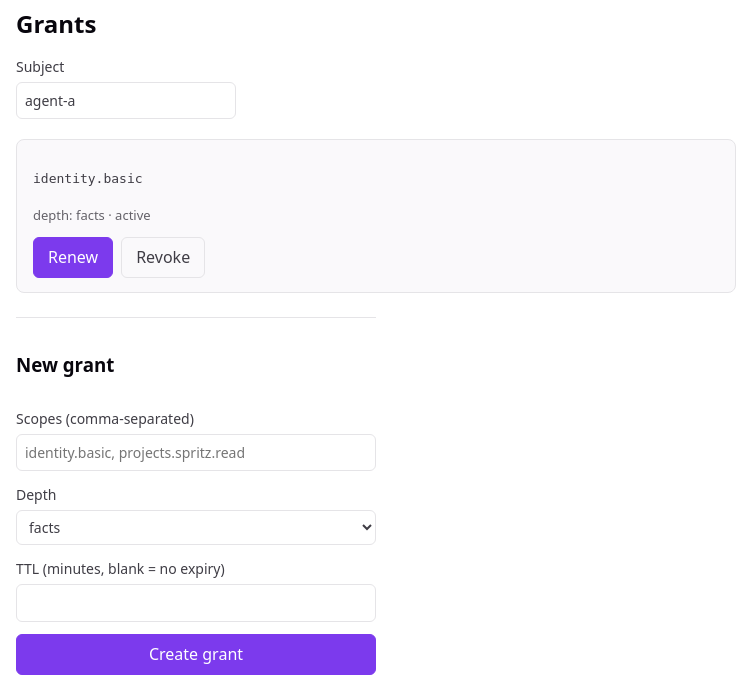
Test case: GrantsPage › removes a grant from the list after revoking it
Expected: the text "identity.basic" is shown, [33,171,143,186]
Step 1. Click the button "Revoke" → point(163, 257), box [121,237,205,278]
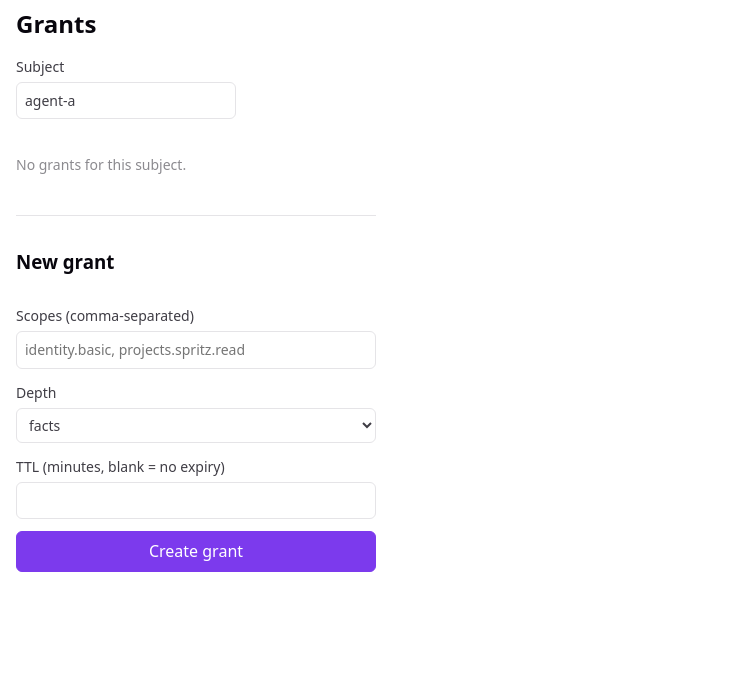
Expected: the text "No grants for this subject." is shown, [16,155,186,174]
